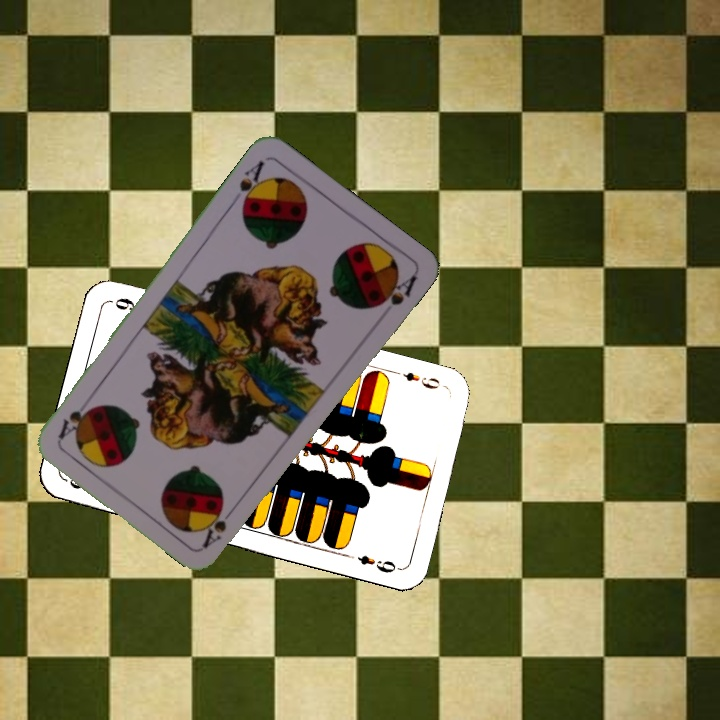E9: (390, 367, 448, 392)
SA: (198, 499, 241, 550), (235, 156, 268, 213)
